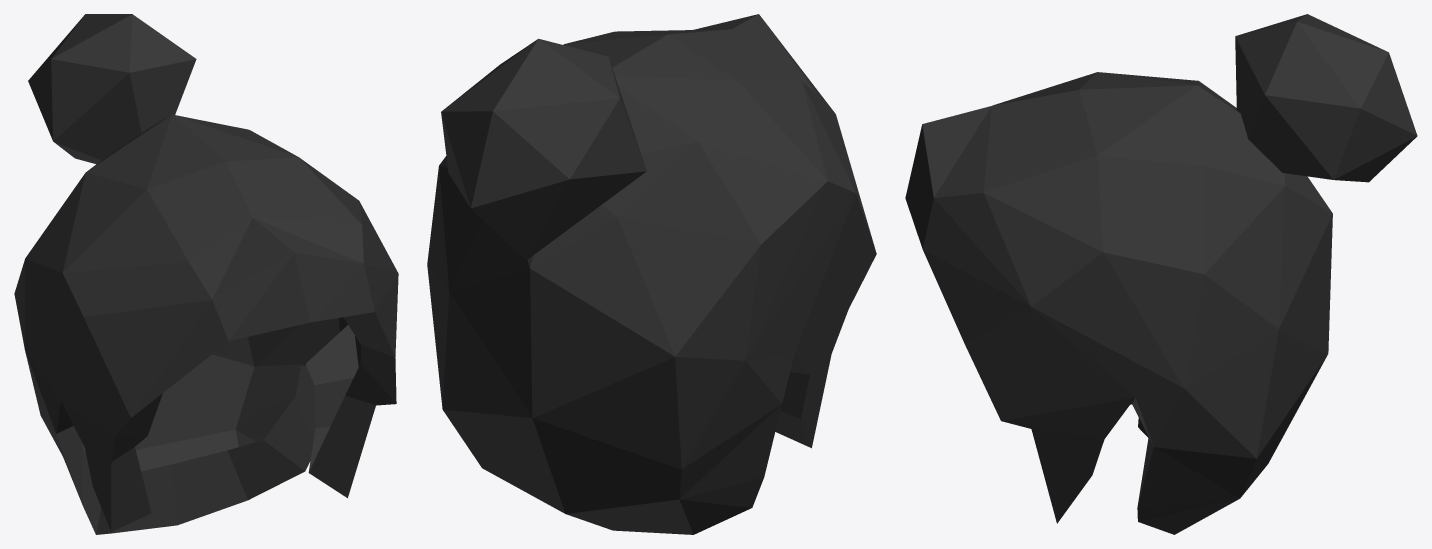
Rendered from MP_Hair_Type1_F_Chignon1.fbx.
3 views of the same model, side by side, from view 1: azimuth 30°, elevation 25°; view 2: azimuth 150°, elevation 25°; view 3: azimuth 270°, elevation 25° (orthographic). The views are drawn at different scales.
Visible parts, largest first — view 1: MP_Hair_Type1_F_Chignon1; view 2: MP_Hair_Type1_F_Chignon1; view 3: MP_Hair_Type1_F_Chignon1.
Boxes of the visible parts, box(x1,y1,x2,y2) form: MP_Hair_Type1_F_Chignon1: box(14, 14, 398, 534); MP_Hair_Type1_F_Chignon1: box(427, 14, 876, 534); MP_Hair_Type1_F_Chignon1: box(905, 14, 1417, 534).
Size of the model in its own units: 0.242 by 0.3446 by 0.3234.
